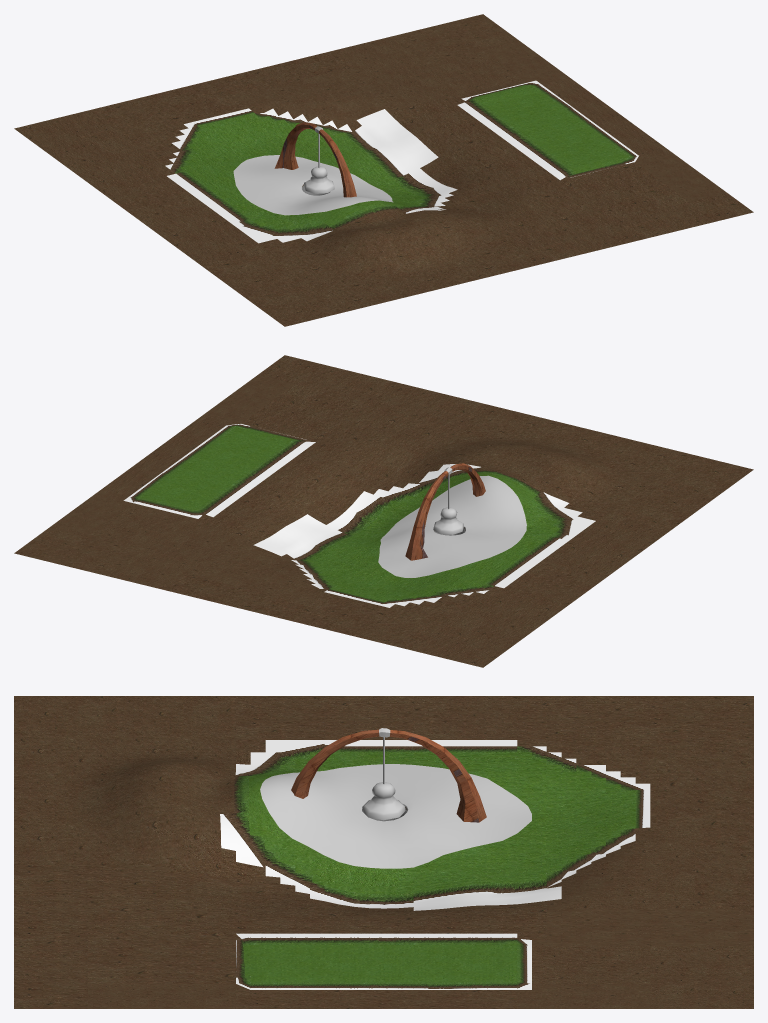
File: Hole016set.fbx
3 views of the same model, one above another, from view 1: azimuth 30°, elevation 25°; view 2: azimuth 150°, elevation 25°; view 3: azimuth 270°, elevation 25° (orthographic). The views are drawn at different scales.
Visible parts, largest first — view 1: Hole16TerrainMesh, ArchforSwingingBlocker, BlockerAtHoleB; view 2: Hole16TerrainMesh, ArchforSwingingBlocker, BlockerAtHoleB; view 3: Hole16TerrainMesh, ArchforSwingingBlocker, BlockerAtHoleB.
Boxes of the visible parts, bbox=[...] form: Hole16TerrainMesh: bbox=[14, 14, 753, 326]; ArchforSwingingBlocker: bbox=[274, 122, 356, 197]; BlockerAtHoleB: bbox=[304, 133, 334, 193]; Hole16TerrainMesh: bbox=[14, 355, 753, 667]; ArchforSwingingBlocker: bbox=[405, 463, 485, 560]; BlockerAtHoleB: bbox=[433, 475, 463, 534]; Hole16TerrainMesh: bbox=[14, 696, 753, 1008]; ArchforSwingingBlocker: bbox=[291, 728, 486, 822]; BlockerAtHoleB: bbox=[362, 737, 405, 820].
Size of the model in its own units: 204 by 37.36 by 204.
